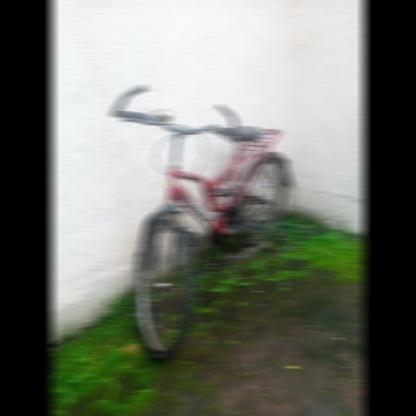Bicycle: (86, 73, 316, 369)
